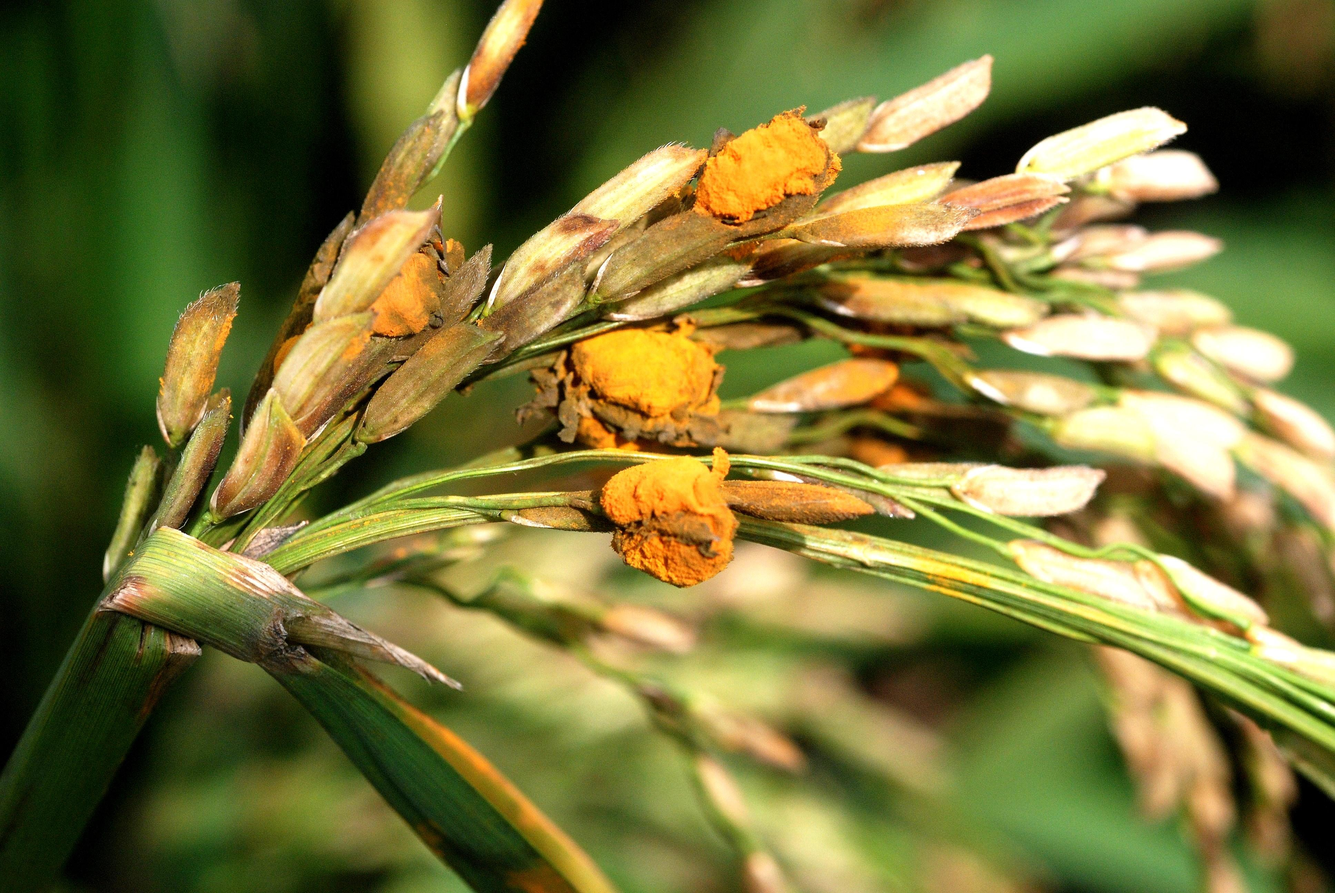False Smut: (514, 314, 759, 472), (586, 427, 776, 617), (303, 207, 500, 351), (676, 86, 848, 245)
